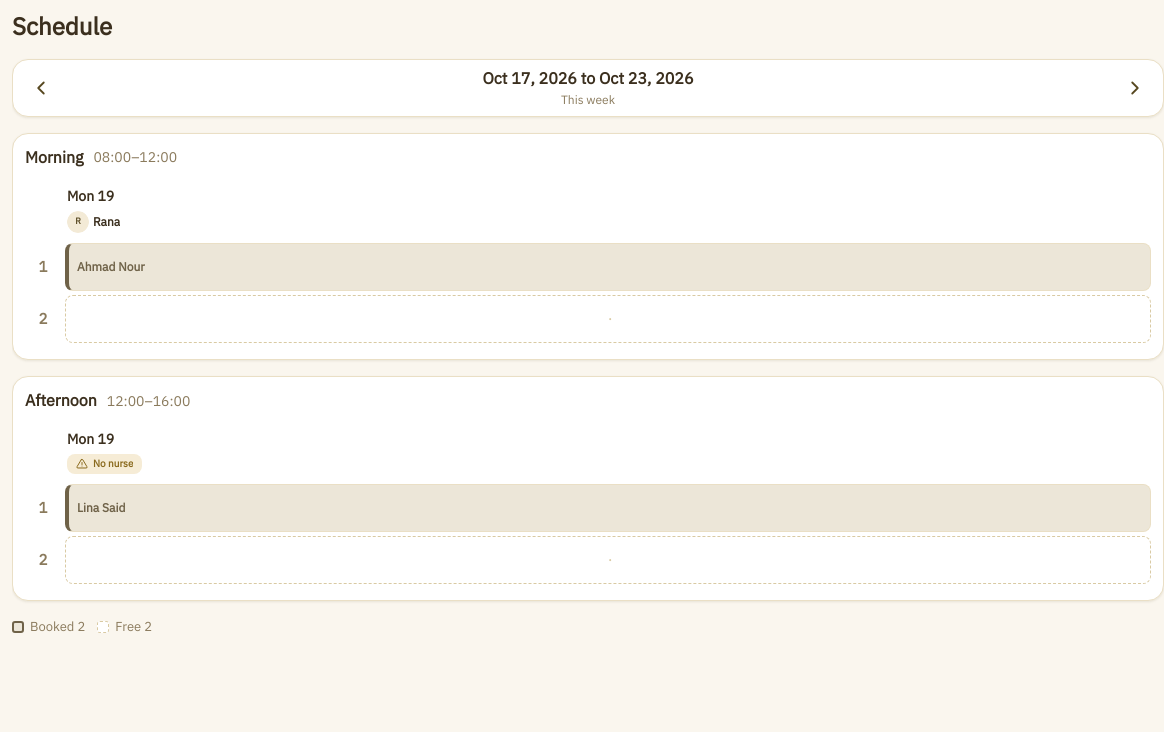
Test: CalendarPage › steps day by day and jumps back to today
Check: the link "Ahmad Nour" is shown, box [65,243,1151,291]
Check: the button "Today" is not shown
Click the button named "Next". click: (1135, 88)
box: [1113,66,1157,110]
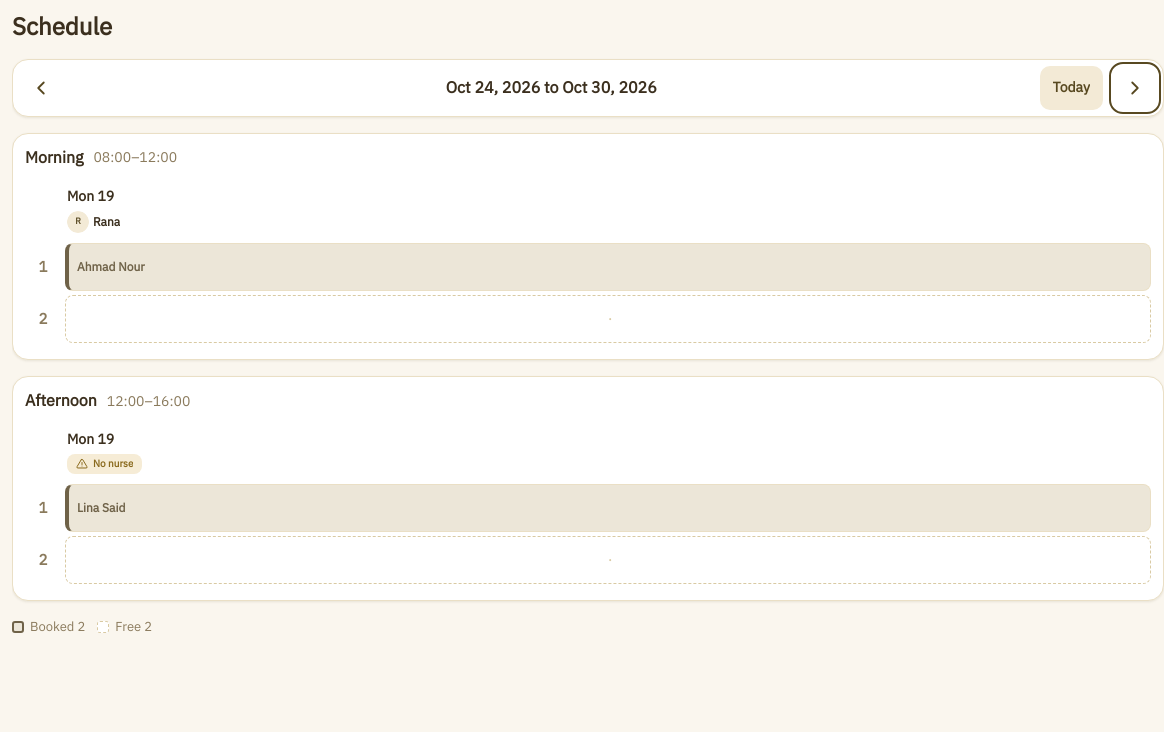
Click the button "Today". click: (1071, 88)
box: [1040,66,1103,110]
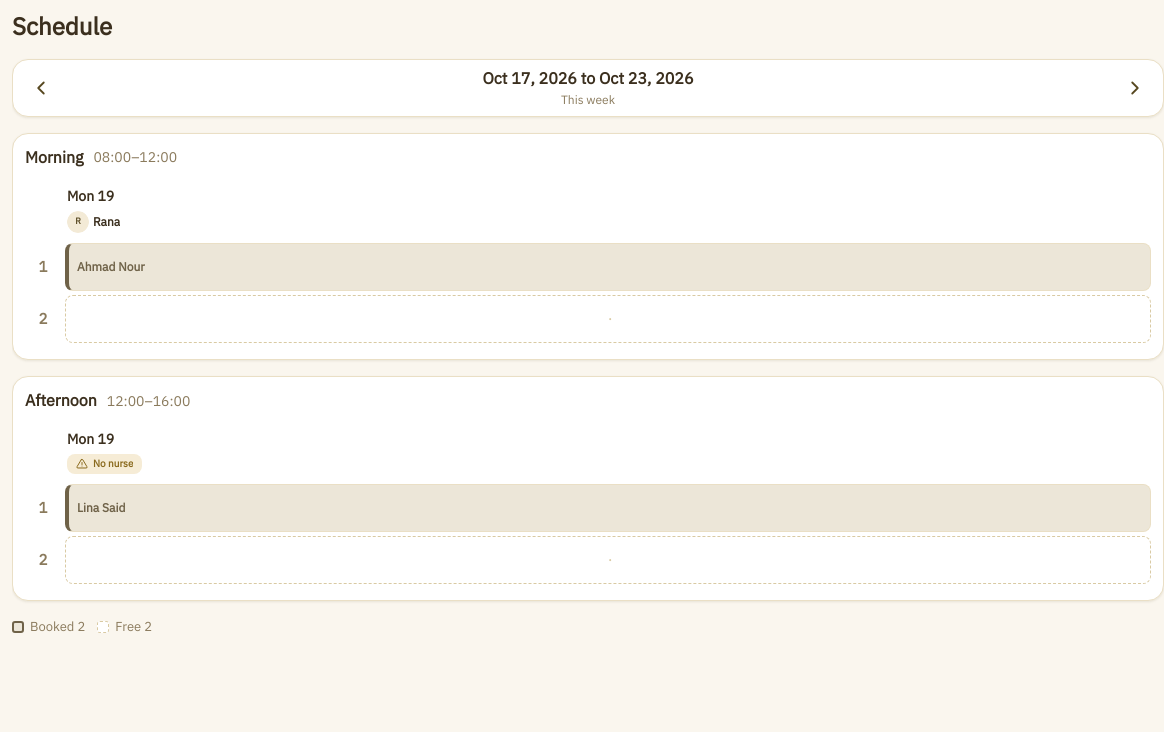
Check: the button "Today" is gone
